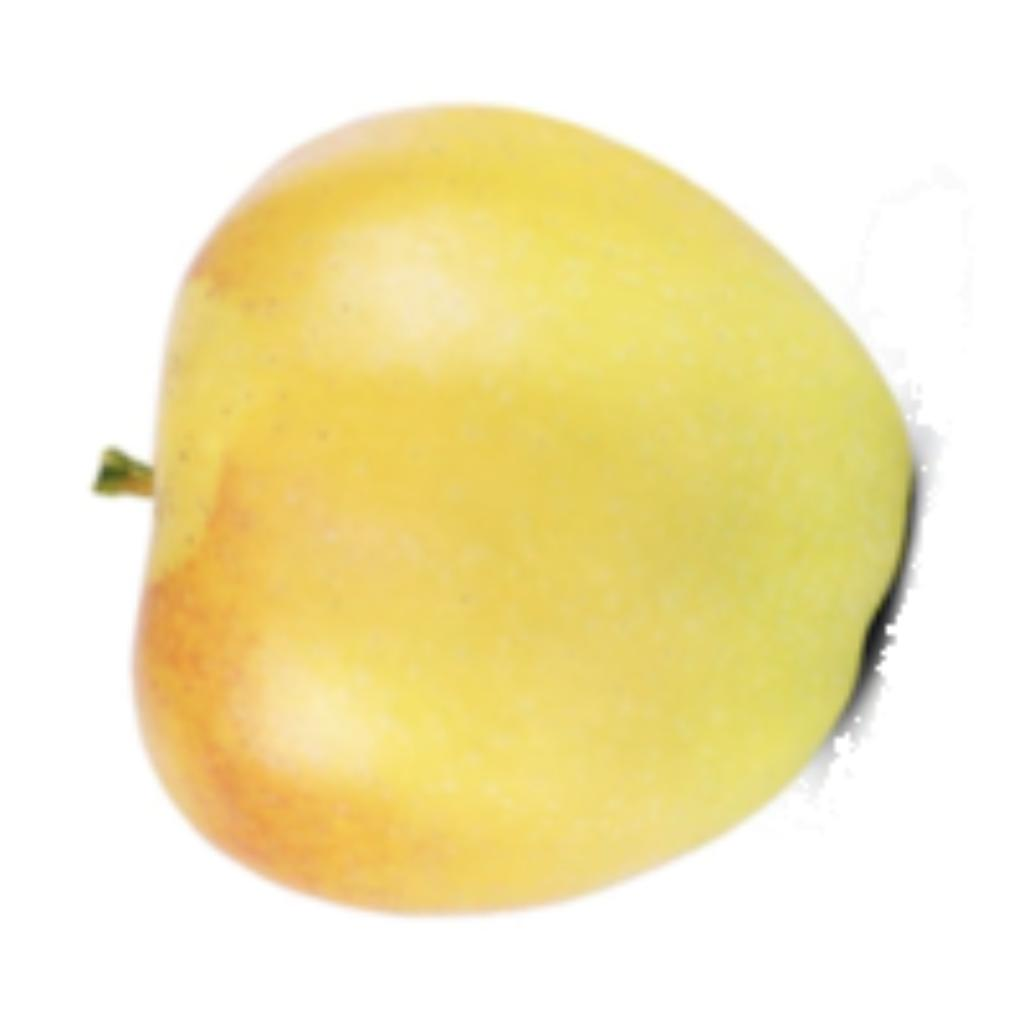apple: (82, 97, 947, 922)
